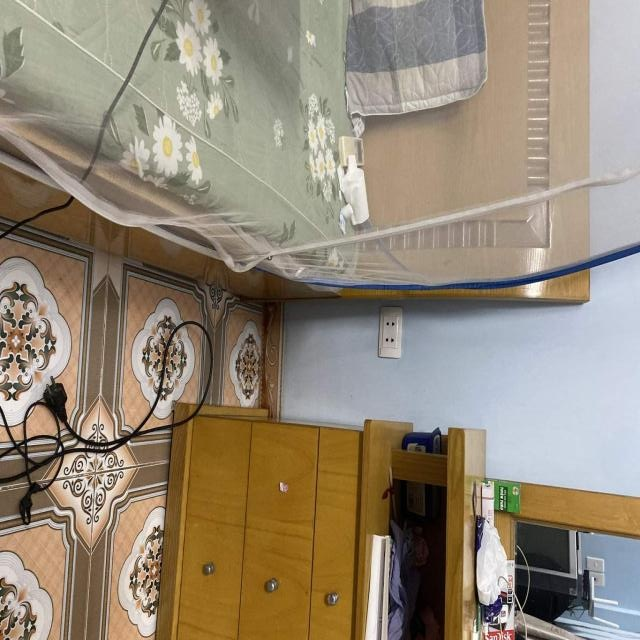outlet: (379, 306, 404, 358)
